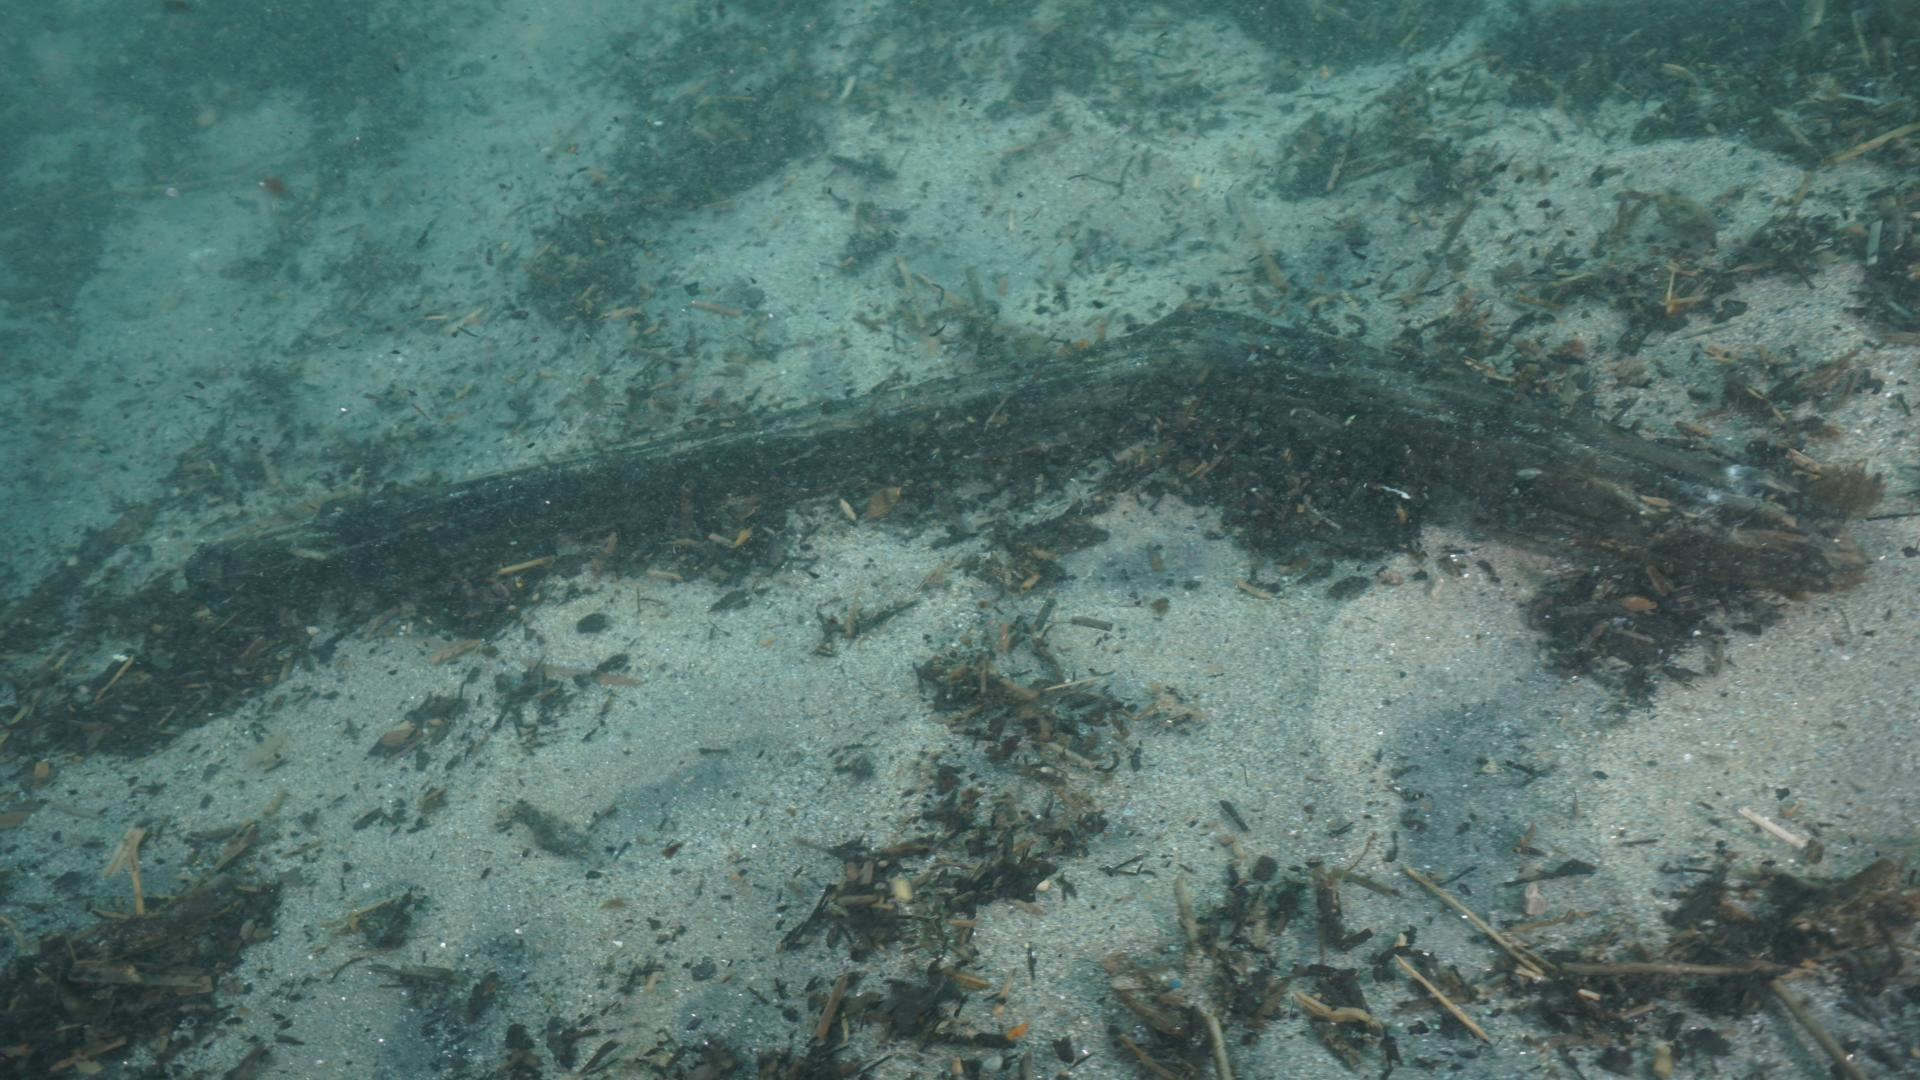wood: (185, 305, 1876, 603)
